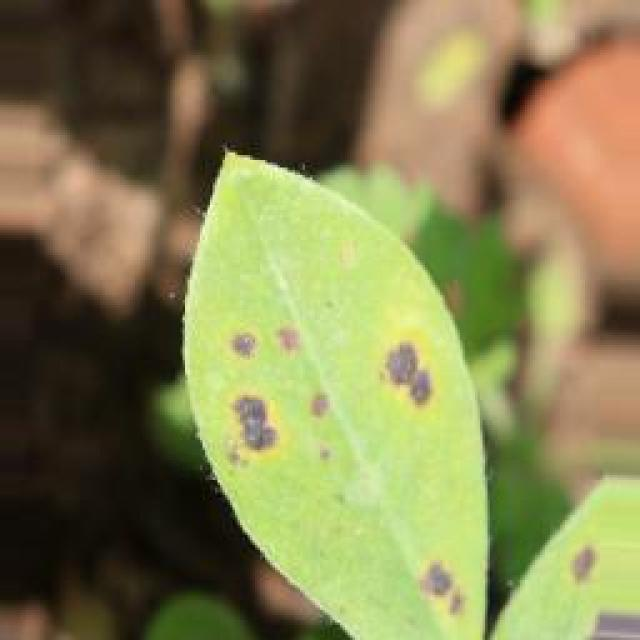Yellowish: (174, 167, 624, 640)
